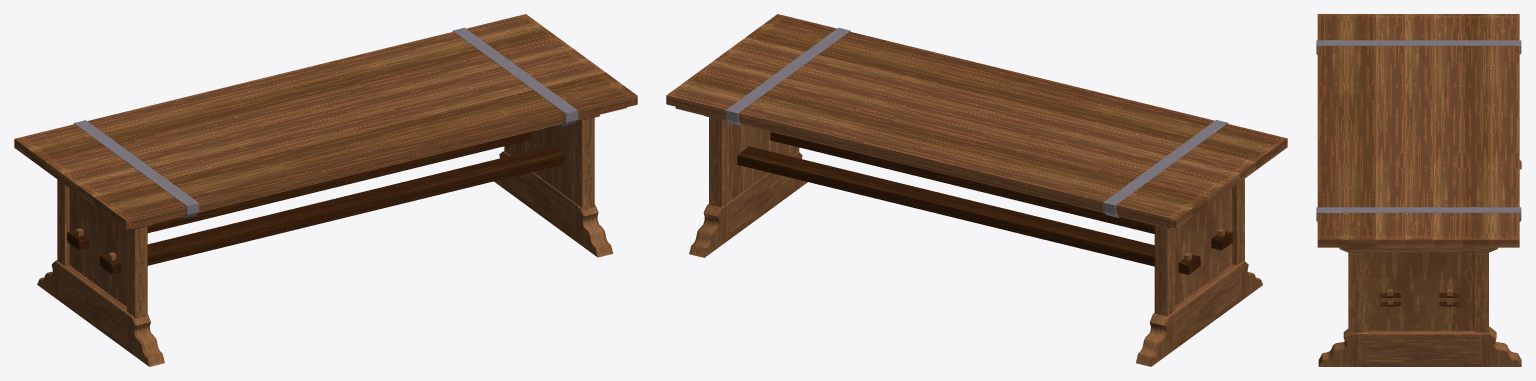
Rendered from Table_Large.gltf.
3 views of the same model, side by side, from view 1: azimuth 30°, elevation 25°; view 2: azimuth 150°, elevation 25°; view 3: azimuth 270°, elevation 25° (orthographic). The views are drawn at different scales.
Visible parts, largest first — view 1: Table_Large; view 2: Table_Large; view 3: Table_Large.
Part boxes in pixels (x1=…): Table_Large: x1=14, y1=14, x2=637, y2=366; Table_Large: x1=666, y1=14, x2=1287, y2=366; Table_Large: x1=1316, y1=14, x2=1521, y2=366.
Size of the model in its own units: 2.85 by 0.8134 by 1.1.
2 materials, 2 textured.
